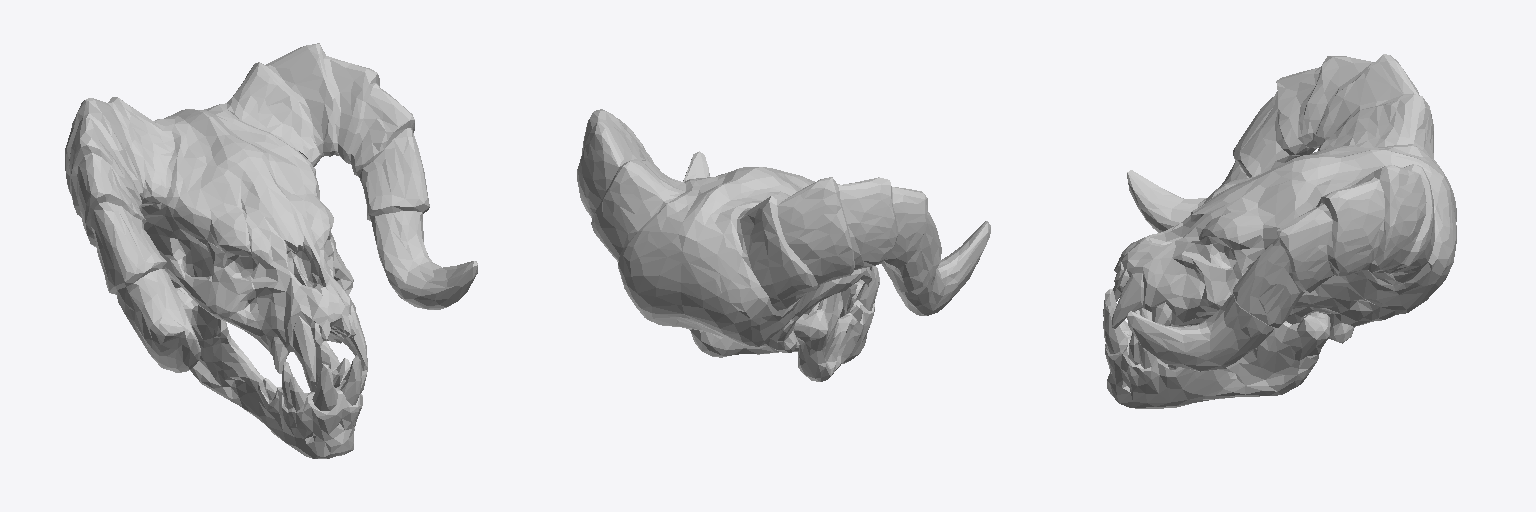
File: Skull_with_UV_Mapping_6839.obj
The picture shows the model from 3 angles: view 1: azimuth 30°, elevation 25°; view 2: azimuth 150°, elevation 25°; view 3: azimuth 270°, elevation 25°; orthographic projection.
Visible parts, largest first — view 1: DeathClawSKULL; view 2: DeathClawSKULL; view 3: DeathClawSKULL.
Part boxes in pixels (x1,y1,x2,y2): DeathClawSKULL: (65, 43, 477, 458); DeathClawSKULL: (577, 109, 990, 381); DeathClawSKULL: (1103, 54, 1456, 408).
Bounding box in the file's own units: 2.61 × 2.21 × 2.44.